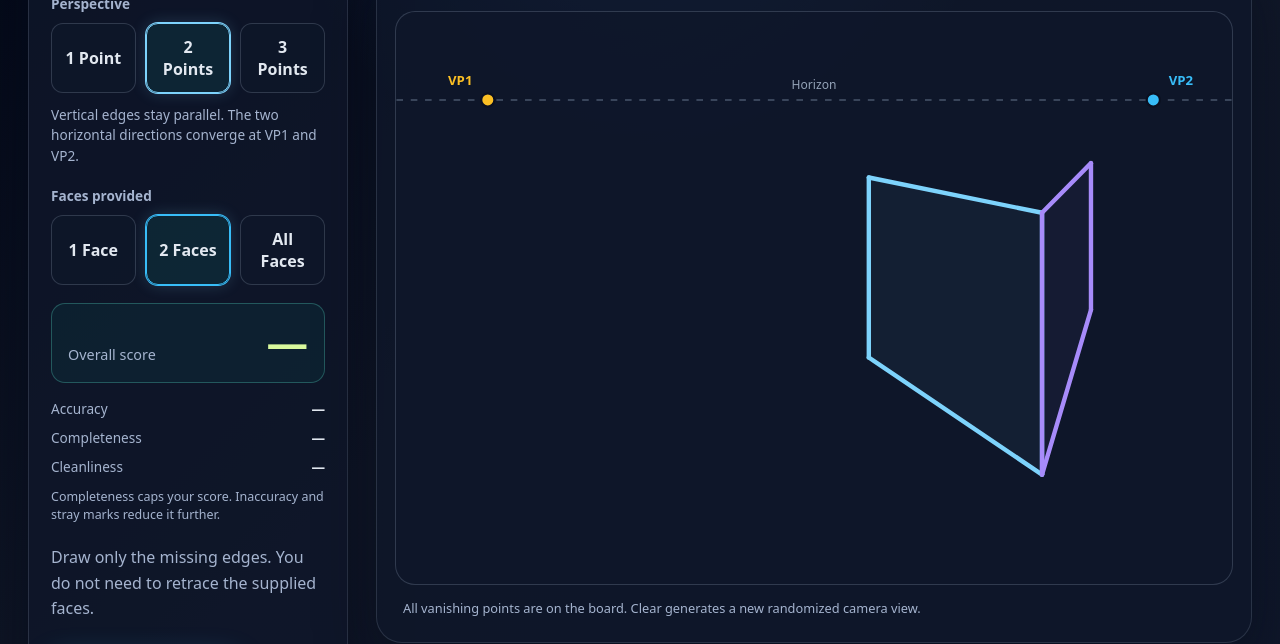
fast pointer events retain both endpoints and committed strokes before React renders
This screenshot has width=1280, height=644.
(page scrolled)
Step 1. Press the mouse on the drawing named "Drawing canvas" → [814, 298], box [396,12,1232,584]
Step 2. Press the mouse on the drawing named "Drawing canvas" → [814, 298], box [396,12,1232,584]
(page scrolled)
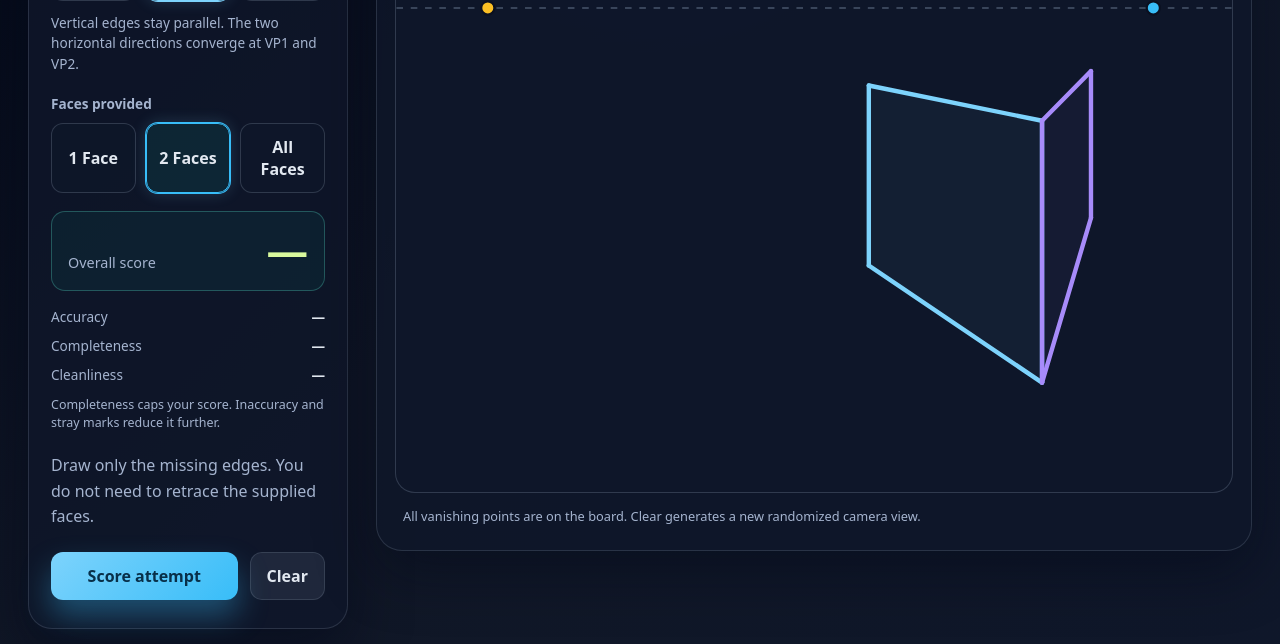
Step 3. Click the button "Score attempt" → [144, 576], box [51,552,238,600]
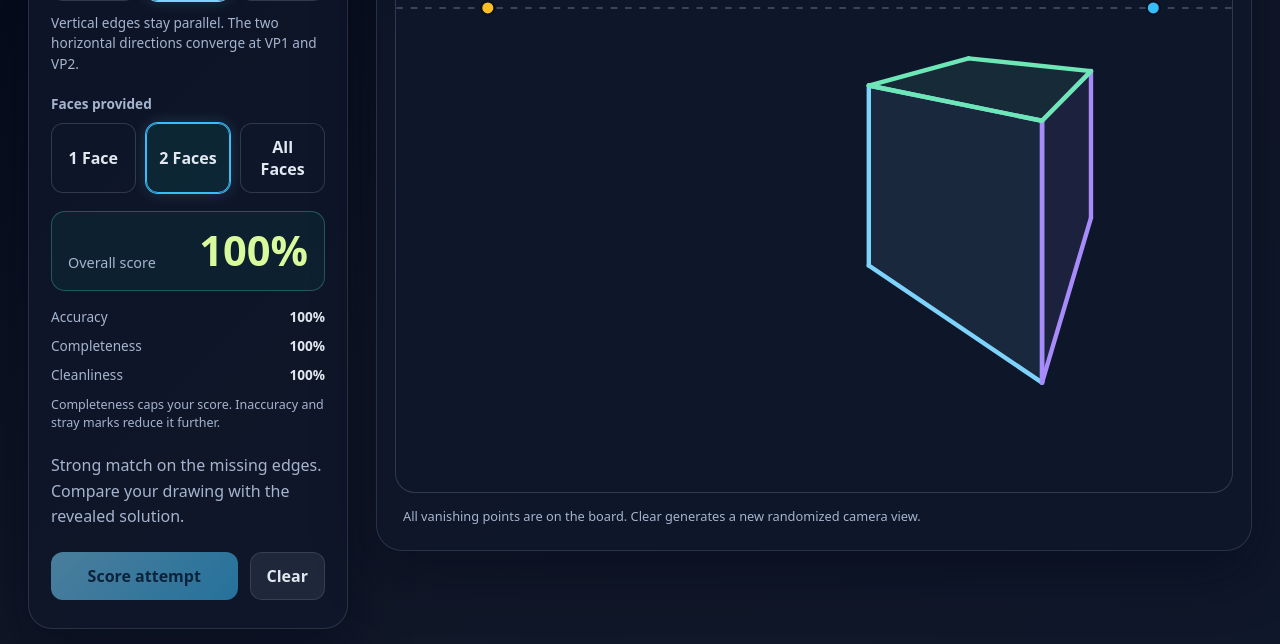
Now the text named "Overall score" reads "100%", box [199,222,308,278]
